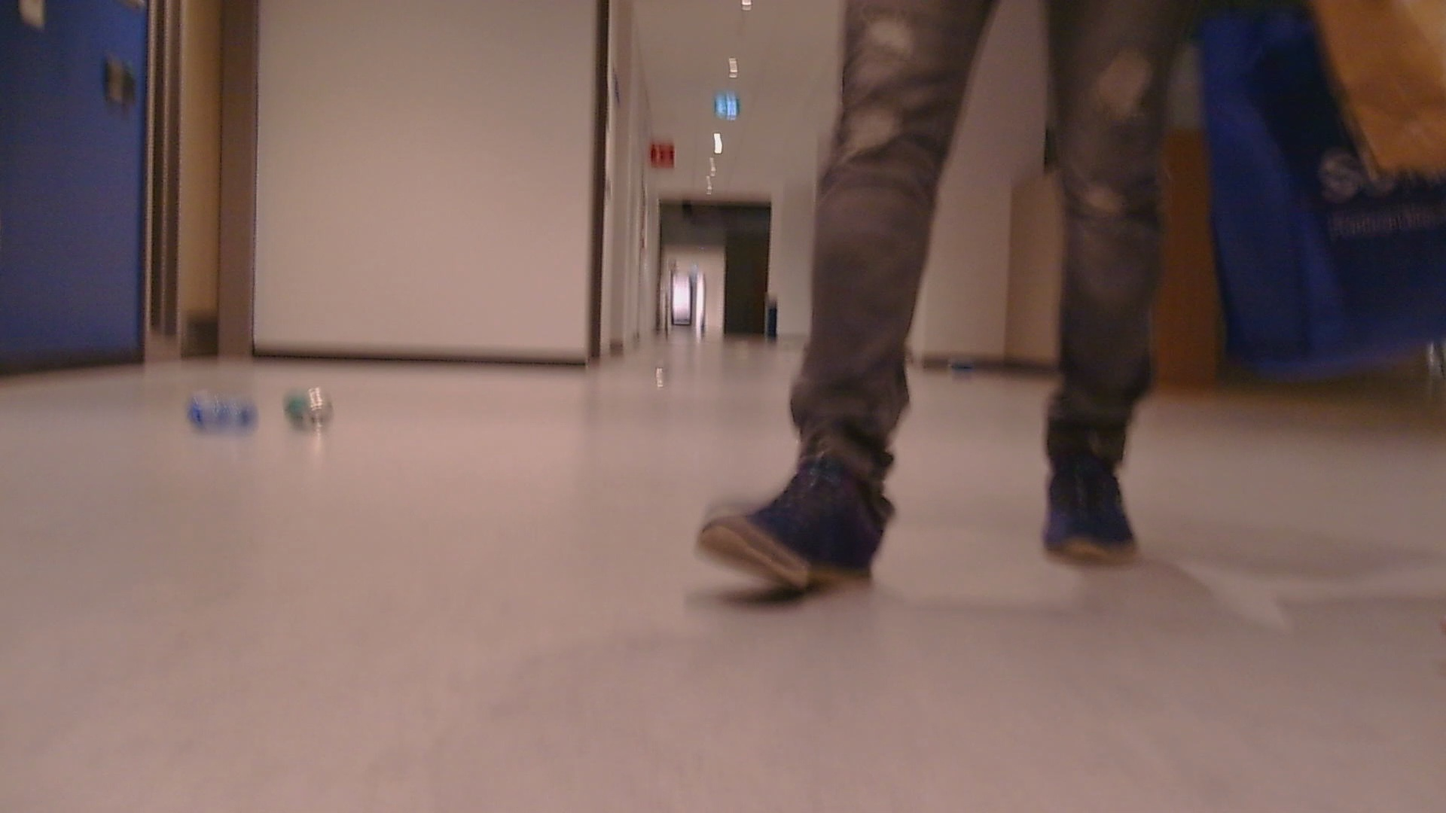carton: (167, 375, 262, 446), (271, 376, 337, 437), (944, 349, 993, 382)
